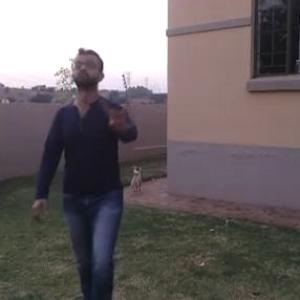takeoff-hand: (98, 98, 133, 138)
